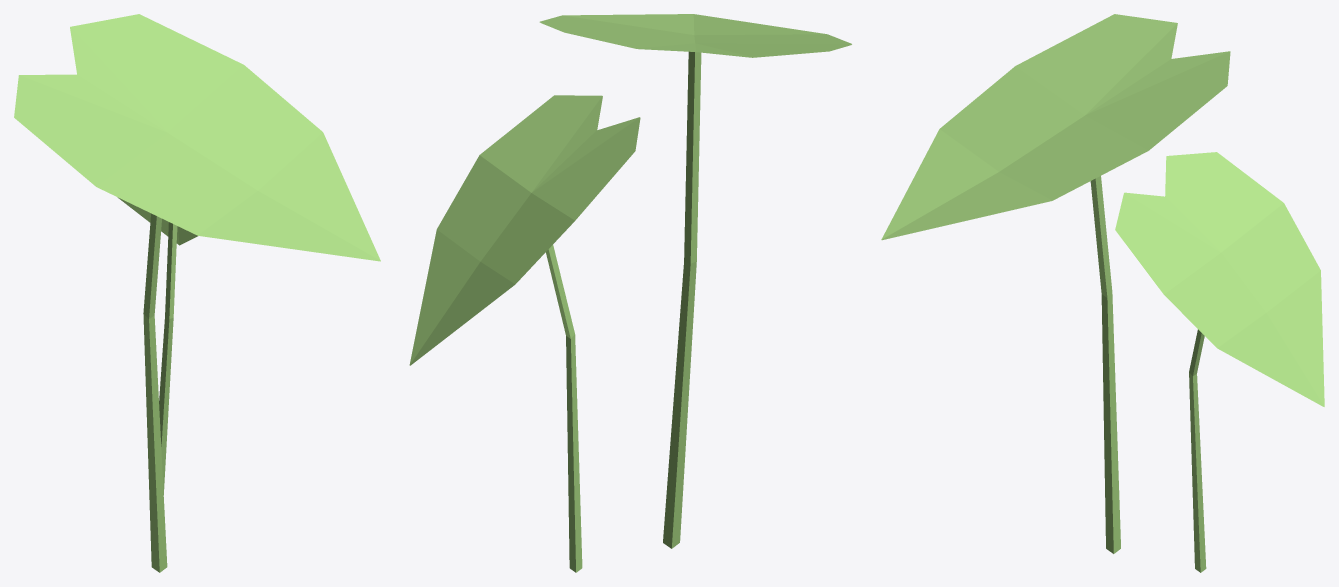
The model's file is Plant_d_TwoS_06.fbx.
3 renders of one model, left to right at view 1: azimuth 30°, elevation 25°; view 2: azimuth 150°, elevation 25°; view 3: azimuth 270°, elevation 25°, orthographic. The views are drawn at different scales.
Visible parts, largest first — view 1: Plant_d_TwoS_06; view 2: Plant_d_TwoS_06; view 3: Plant_d_TwoS_06.
Boxes of the visible parts, x1,y1,x2,y2 form: Plant_d_TwoS_06: [14, 14, 380, 572]; Plant_d_TwoS_06: [409, 14, 851, 572]; Plant_d_TwoS_06: [881, 14, 1324, 572].
Size of the model in its own units: 0.5226 by 0.8256 by 0.6831.
